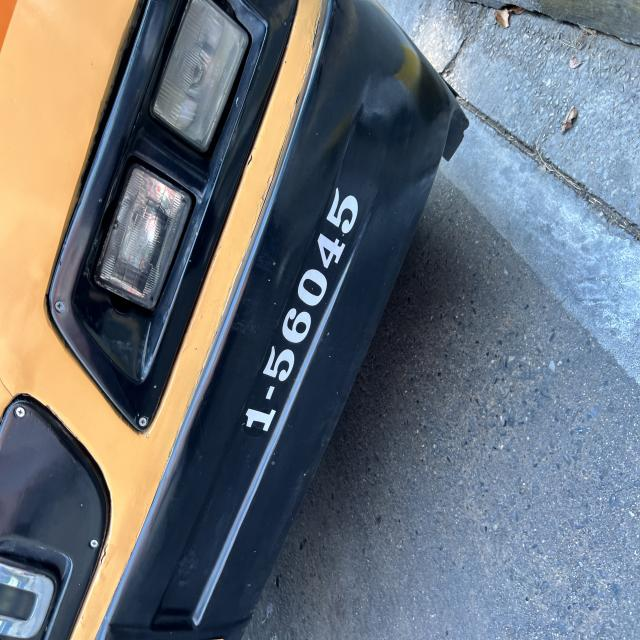BMTA-bus: (0, 0, 476, 639)
